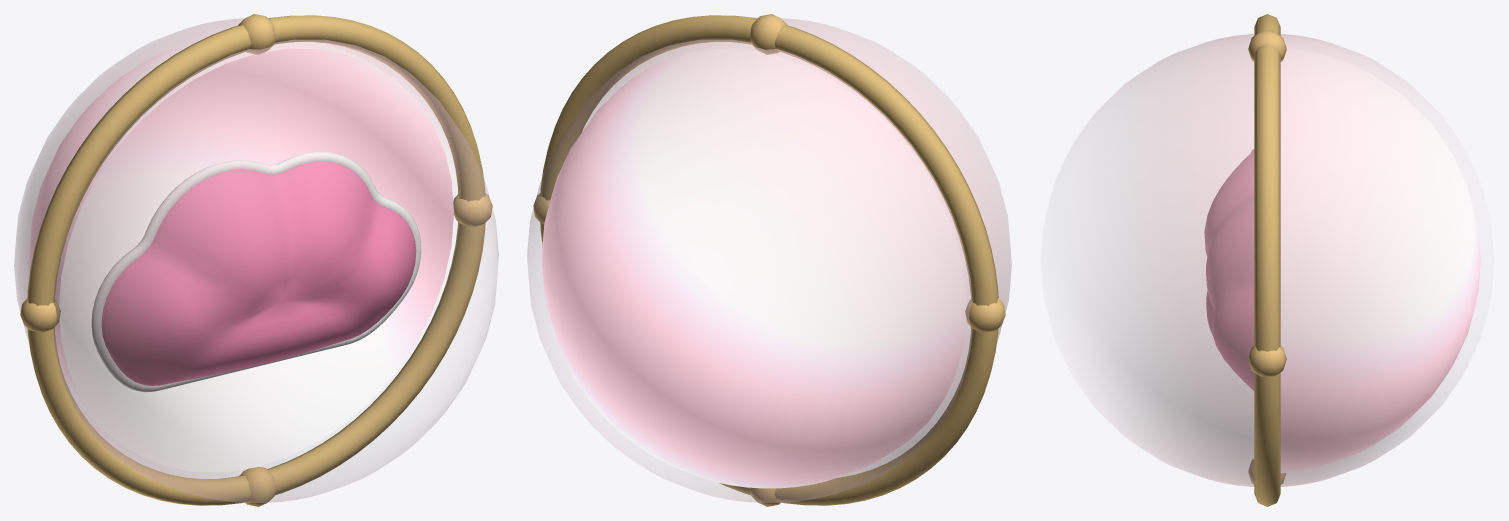
The model's file is medallion-04.glb.
The picture shows the model from 3 angles, left to right: view 1: azimuth 30°, elevation 25°; view 2: azimuth 150°, elevation 25°; view 3: azimuth 270°, elevation 25°; orthographic projection. The views are drawn at different scales.
Parts seen in each view (by area): view 1: Medallion04; view 2: Medallion04; view 3: Medallion04.
Boxes of the visible parts, x1,y1,x2,y2 form: Medallion04: (14, 14, 498, 506); Medallion04: (527, 14, 1011, 506); Medallion04: (1089, 14, 1480, 506).
Bounding box in the file's own units: 0.4981 × 0.5 × 0.4494.
